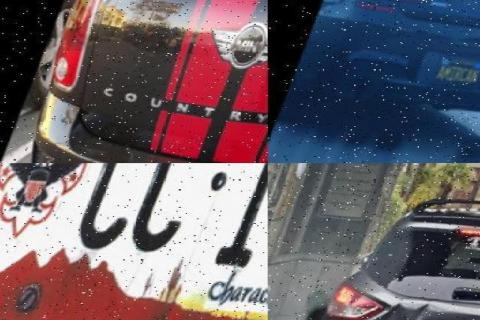LicensePlate: (60, 163, 268, 307), (429, 51, 480, 94)
